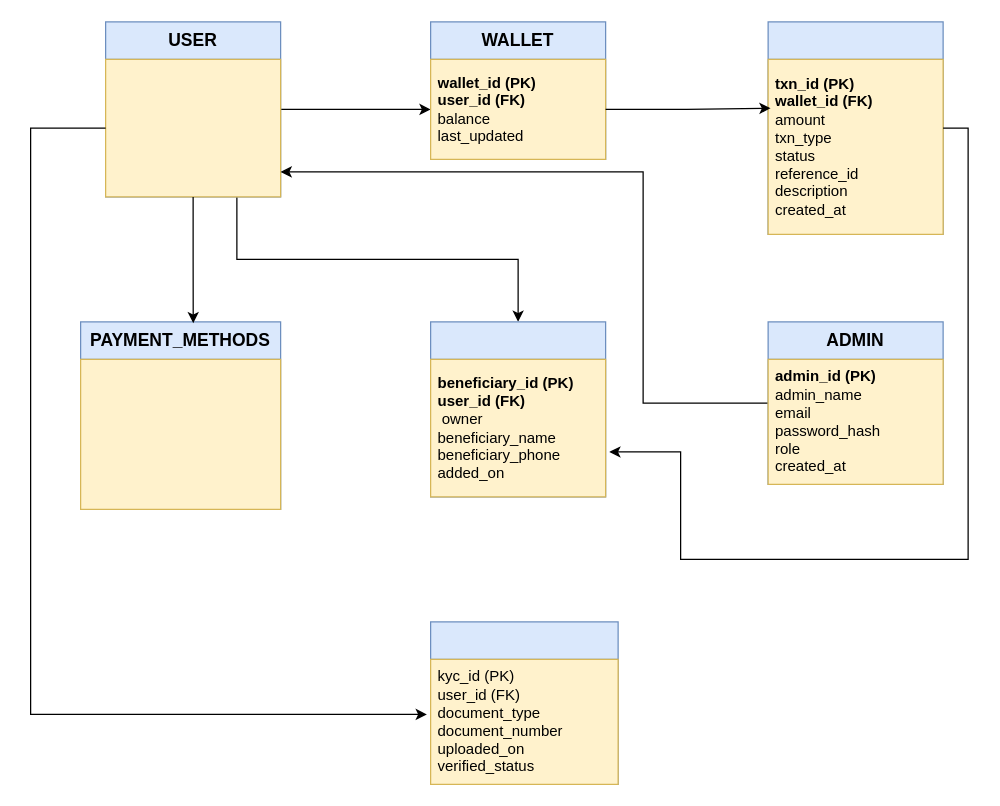
Image size: 1000x806. Some labels were removed from this diagram. Here are the shapes that lost their labels. From the top down, the box of each, then its label:
(104, 58, 281, 197): user_id (PK) full_name email phone password_hash created_at status
(767, 21, 943, 234): TRANSACTIONS
(429, 321, 606, 497): BENEFECIARIES
(79, 358, 281, 509): method_id (PK) user_id (FK) method_type provider account_no expiry_date added_on
(429, 621, 618, 784): KYC_PROJECT
